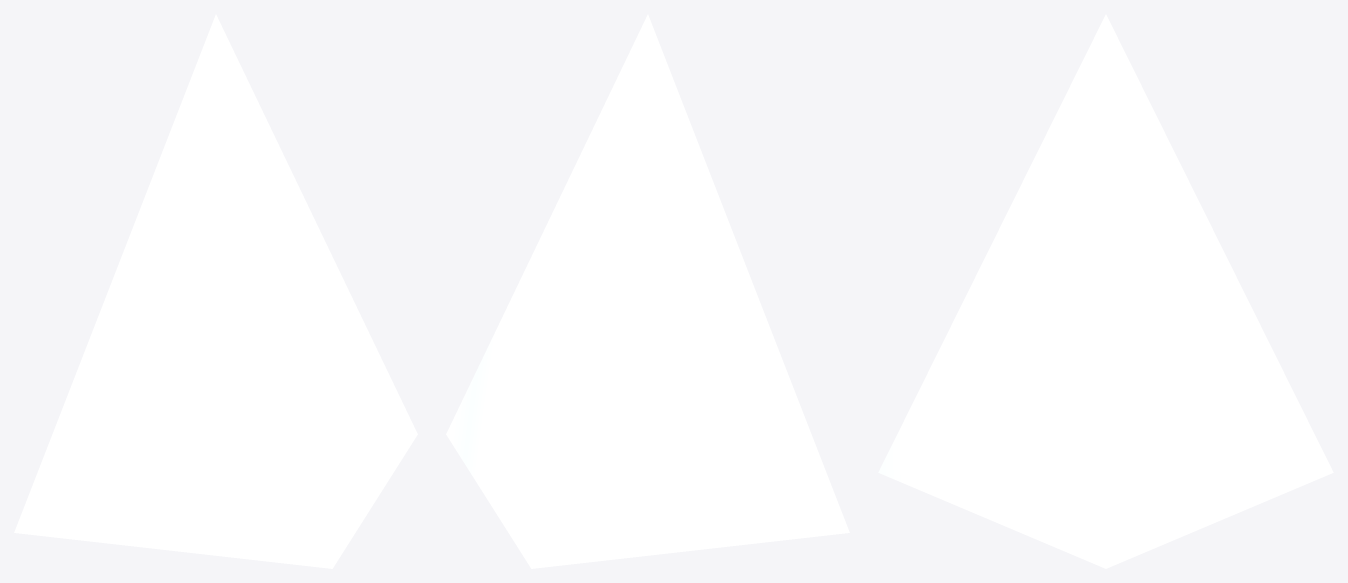
File: SM_cv_flame_green.glb
The picture shows the model from 3 angles, left to right: view 1: azimuth 30°, elevation 25°; view 2: azimuth 150°, elevation 25°; view 3: azimuth 270°, elevation 25°; orthographic projection. The views are drawn at different scales.
Visible parts, largest first — view 1: SM_cv_flame_green; view 2: SM_cv_flame_green; view 3: SM_cv_flame_green.
Part boxes in pixels (left/top/right/bottom): SM_cv_flame_green: left=14, top=14, right=417, bottom=568; SM_cv_flame_green: left=446, top=14, right=849, bottom=568; SM_cv_flame_green: left=878, top=14, right=1333, bottom=568.
Size of the model in its own units: 0.9 by 1 by 0.9.
